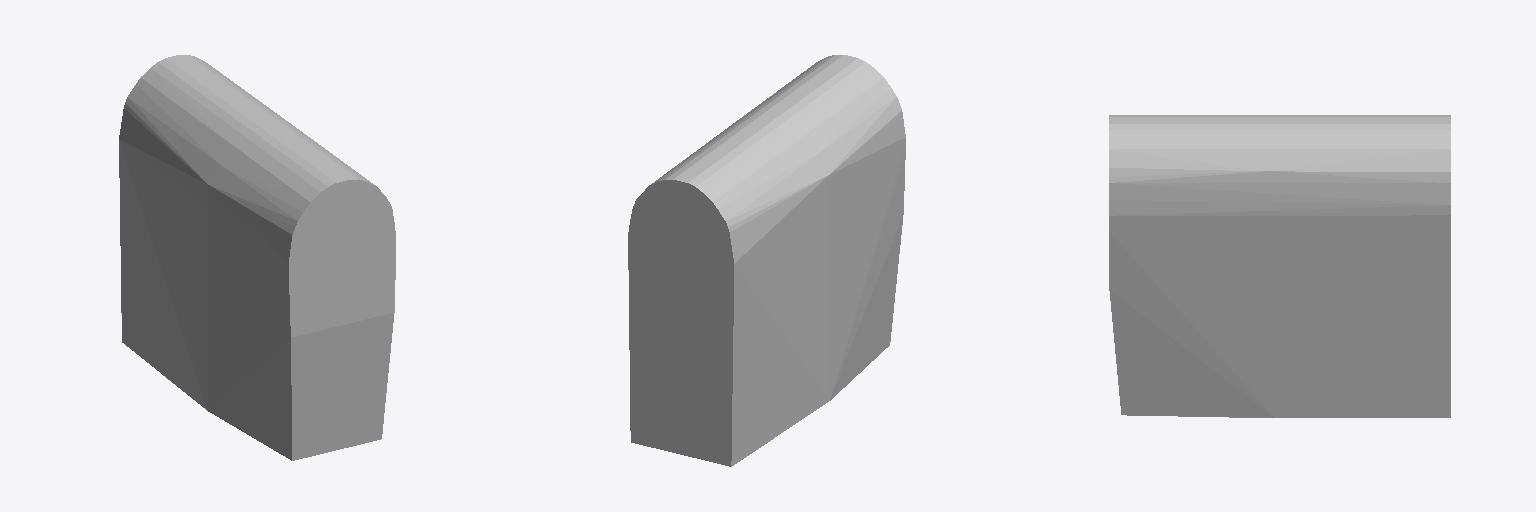
The model's file is Toaster_24_collision_10.obj.
3 renders of one model, left to right at view 1: azimuth 30°, elevation 25°; view 2: azimuth 150°, elevation 25°; view 3: azimuth 270°, elevation 25°, orthographic.
Size of the model in its own units: 0.0277 by 0.0658 by 0.0745.